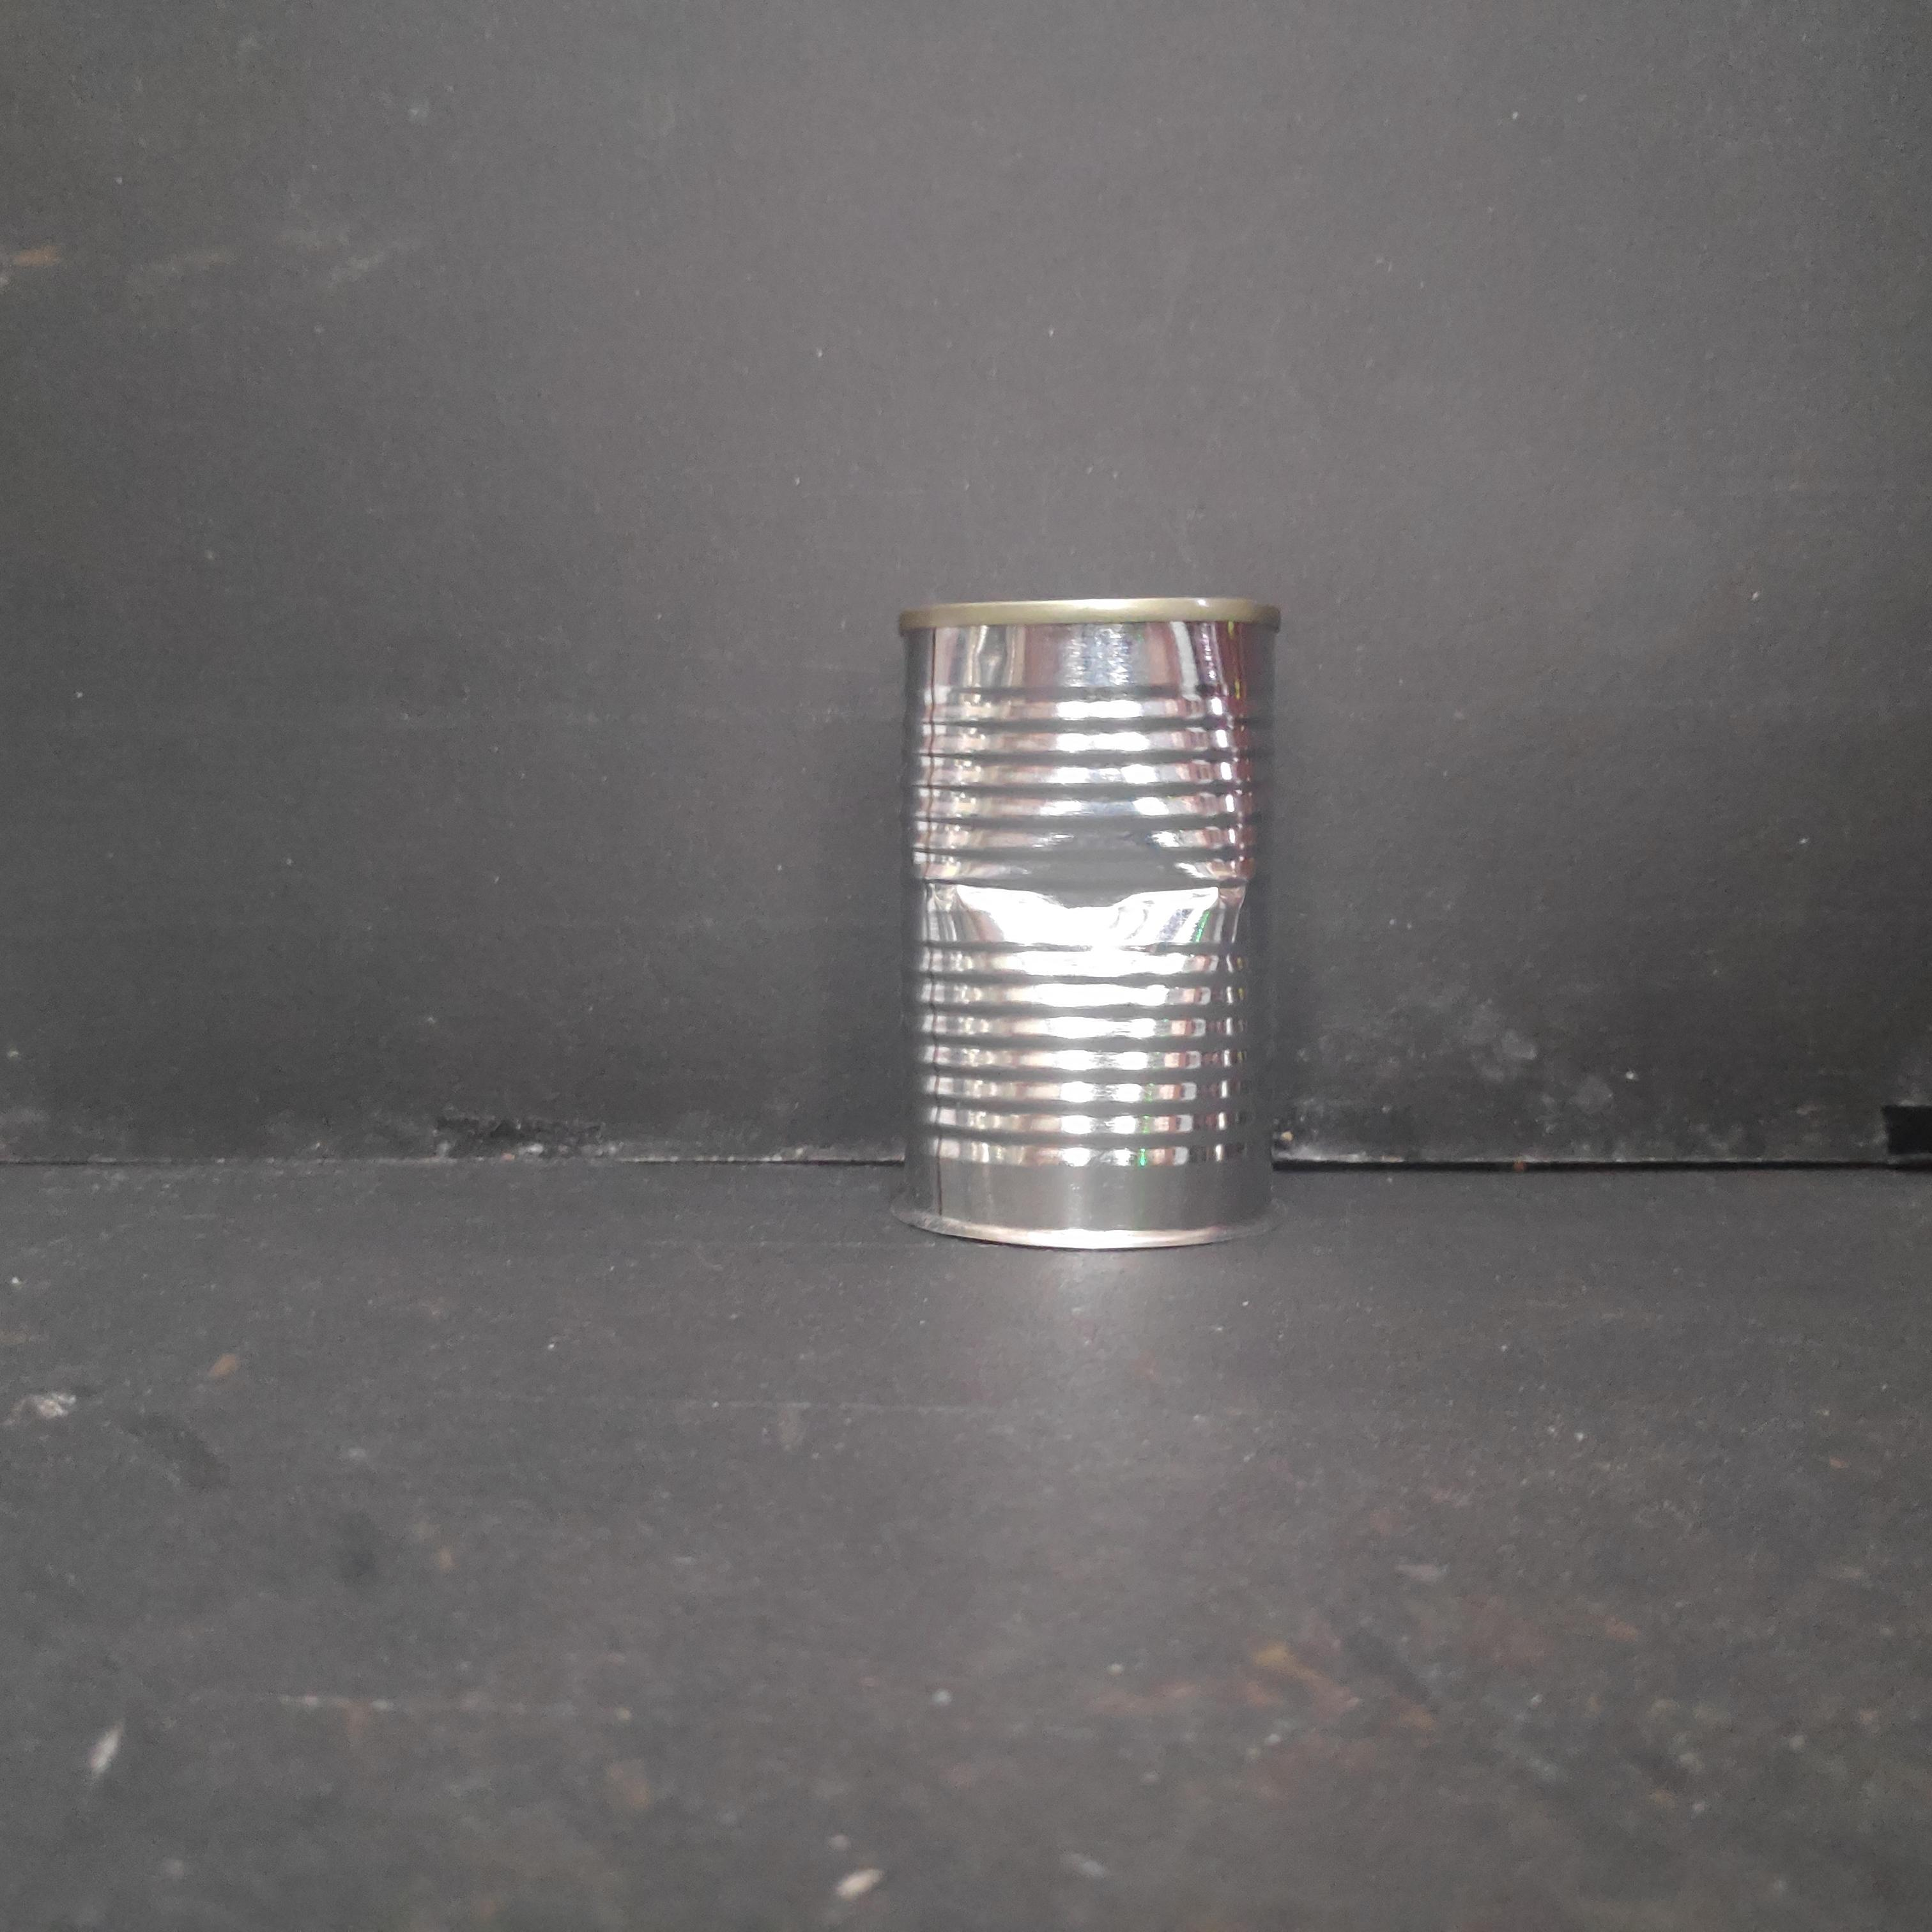Minor Defect: (890, 579, 1281, 1260)
